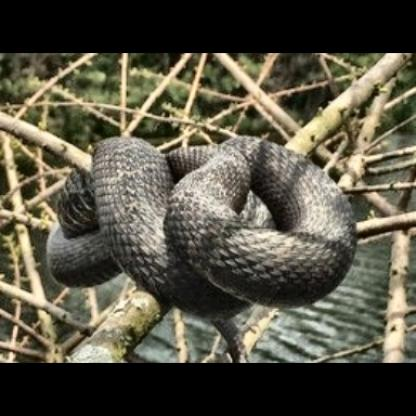Snake: (45, 132, 359, 307)
